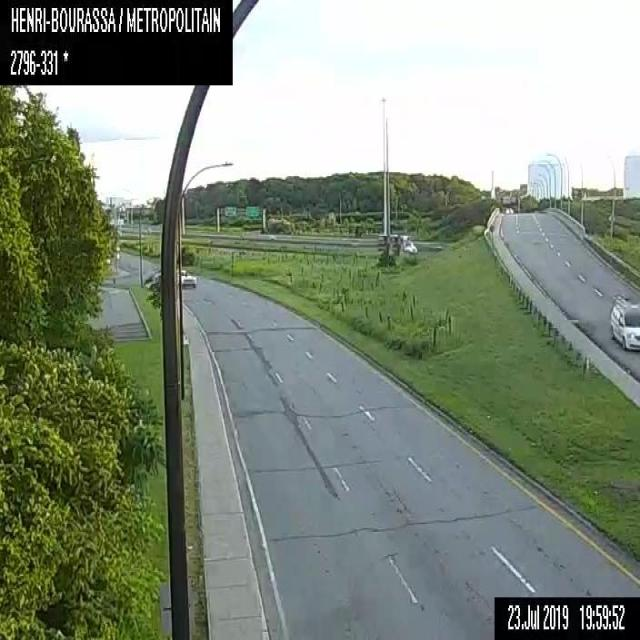vehicle: (608, 290, 639, 350), (376, 231, 418, 253), (180, 267, 196, 288)
